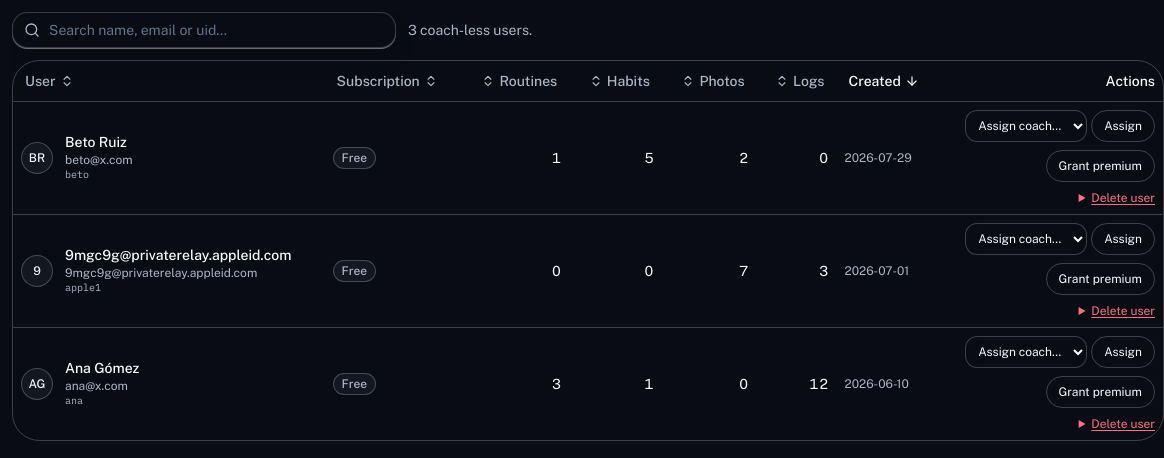
CoachlessUsersTable › searches by name, email or uid and reports the narrowed count
Expected: the text "3 coach-less users." is shown, [408,20,532,40]
Type "privaterelay" into the field named "Search coach-less users". click: (204, 30)
box: [12,12,396,48]
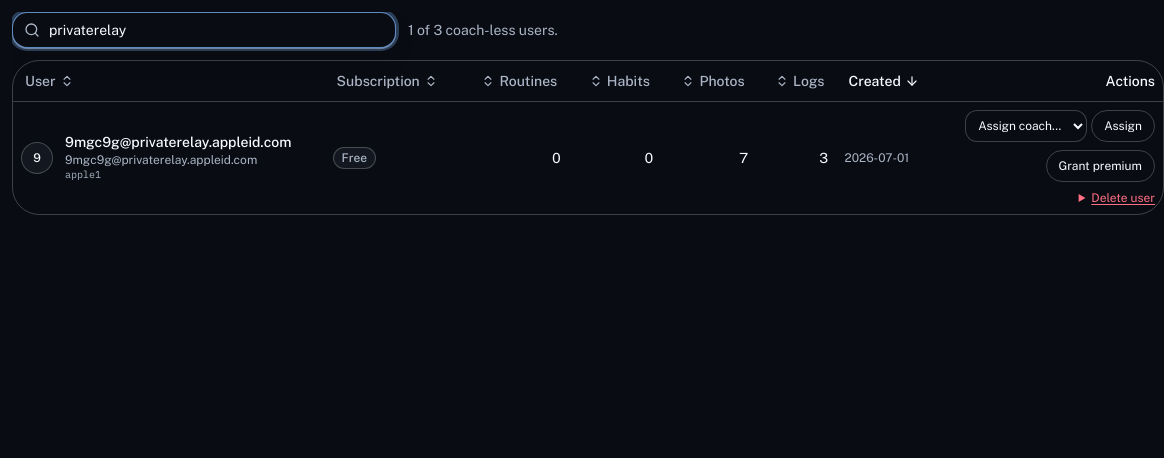
Result: the text "1 of 3 coach-less users." is shown at [408,20,558,40]
Replace the text in the field named "Search coach-less users" with "zzz". click: (204, 30)
box: [12,12,396,48]
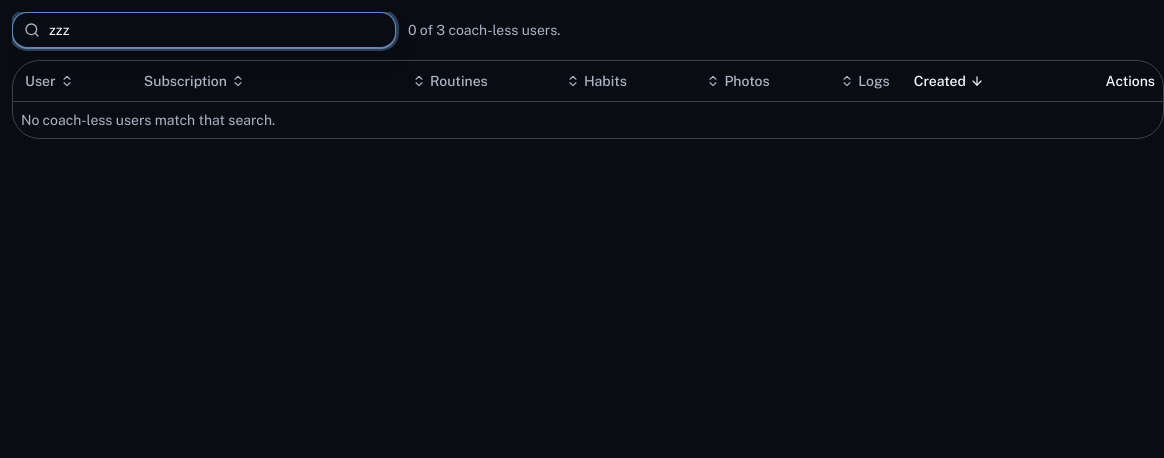
Result: the text "No coach-less users match that search." is shown at [13,101,1163,138]
